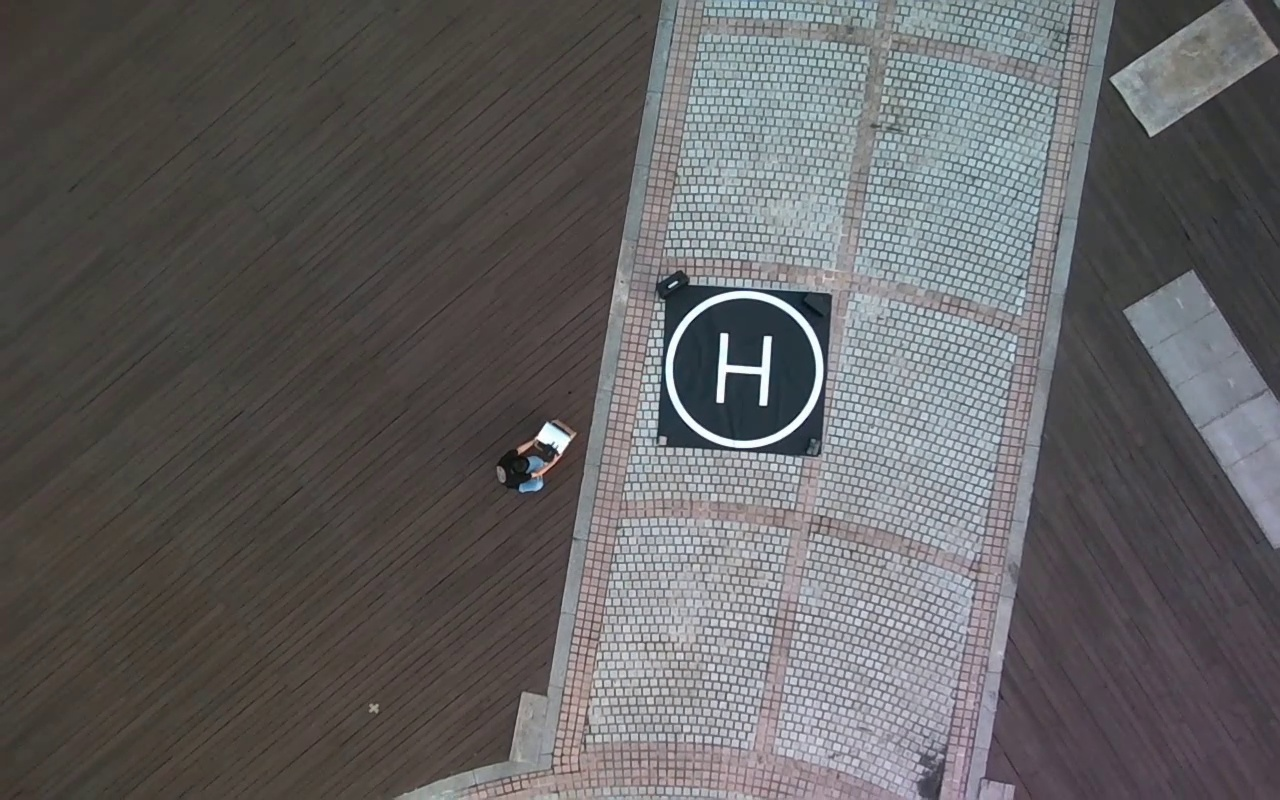H: (715, 331, 773, 408)
heliport: (663, 289, 824, 449)
